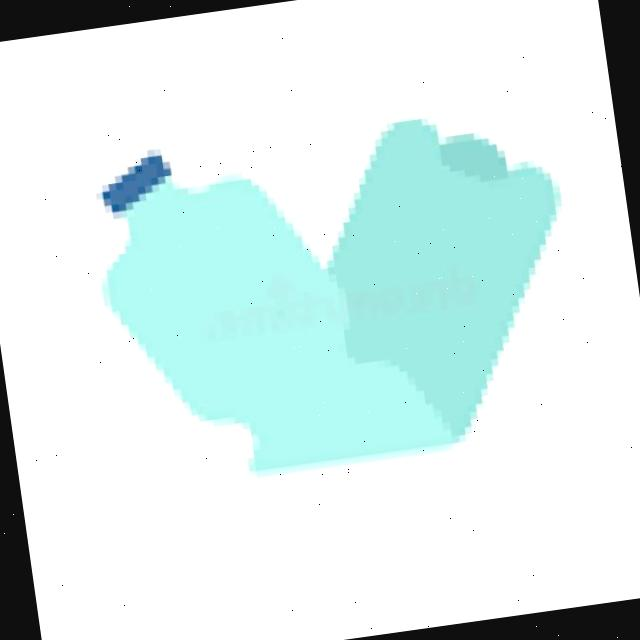trash: (80, 87, 601, 501)
